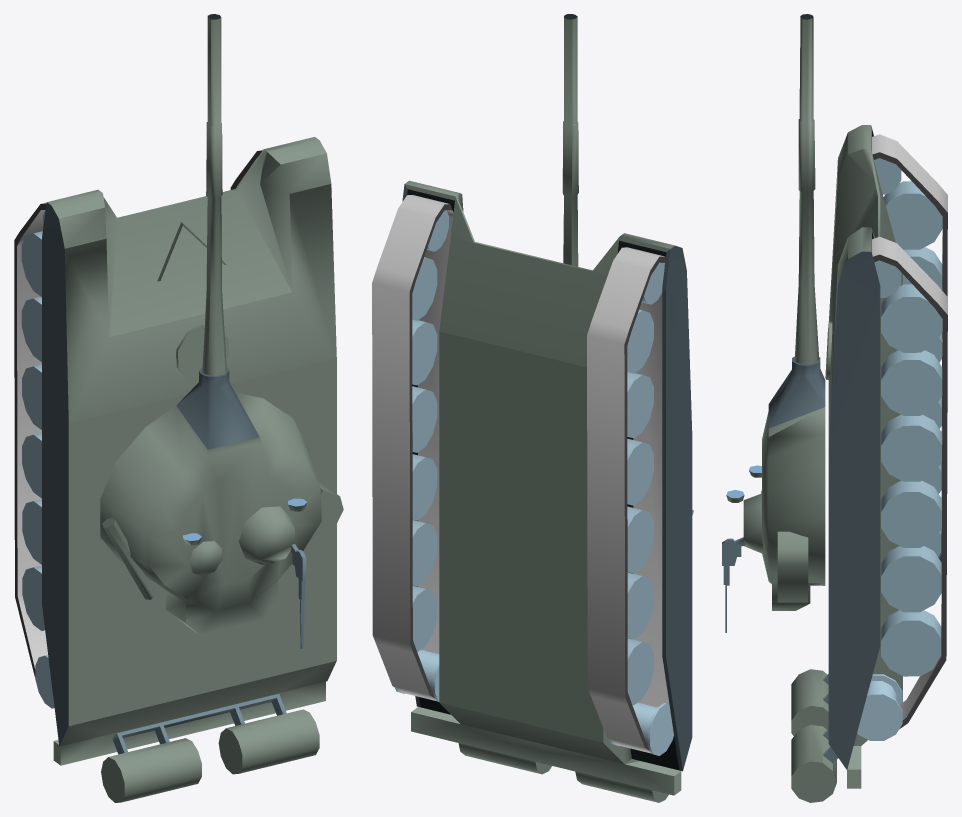
The picture shows the model from 3 angles, left to right: view 1: azimuth 30°, elevation 25°; view 2: azimuth 150°, elevation 25°; view 3: azimuth 270°, elevation 25°; orthographic projection. The views are drawn at different scales.
Visible parts, largest first — view 1: db_t72M_p15228_Geometry_0.001, db_t72M_d3_turr_p16122_Geometry_0.001, db_t72M_p15278_Geometry_0.001, db_t72M_d3_d4_barrel_p14166_Geometry_0.001, db_t72M_track_o2605_p15931_Geometry_0.001, db_t72M_p15244_Geometry_0.001, db_t72M_d3_boot_p14070_Geometry_0.001, db_t72M_wheels_o2604_p15395_Geometry_0.001, db_t72M_wheels_o2606_p16516_Geometry_0.001, db_t72M_d3_box1_p14089_Geometry_0.001, db_t72M_wheels_o2607_p17080_Geometry_0.001, db_t72M_d3_peri_p13964_Geometry_0.001 (+6 smaller); view 2: db_t72M_p15228_Geometry_0.001, db_t72M_track_o2605_p15931_Geometry_0.001, db_t72M_p15278_Geometry_0.001, db_t72M_wheels_o2604_p15395_Geometry_0.001, db_t72M_wheels_o2606_p16516_Geometry_0.001, db_t72M_p15244_Geometry_0.001, db_t72M_wheels_o2607_p17080_Geometry_0.001, db_t72M_d3_d4_barrel_p14166_Geometry_0.001, db_t72M_track_o2605_p15907_Geometry_0.001, db_t72M_p15968_Geometry_0.001, db_t72M_wheels_o2604_p15321_Geometry_0.001, db_t72M_wheels_o2607_p17006_Geometry_0.001 (+1 smaller); view 3: db_t72M_p15278_Geometry_0.001, db_t72M_wheels_o2604_p15395_Geometry_0.001, db_t72M_p15228_Geometry_0.001, db_t72M_wheels_o2606_p16516_Geometry_0.001, db_t72M_d3_turr_p16122_Geometry_0.001, db_t72M_wheels_o2607_p17080_Geometry_0.001, db_t72M_d3_d4_barrel_p14166_Geometry_0.001, db_t72M_track_o2605_p15907_Geometry_0.001, db_t72M_track_o2605_p15931_Geometry_0.001, db_t72M_d3_boot_p14070_Geometry_0.001, db_t72M_d3_box2_p14250_Geometry_0.001, db_t72M_wheels_o2606_p16442_Geometry_0.001 (+5 smaller).
Part boxes in pixels (<box>): db_t72M_p15228_Geometry_0.001: <box>47,137,336,802</box>; db_t72M_d3_turr_p16122_Geometry_0.001: <box>100,392,321,611</box>; db_t72M_p15278_Geometry_0.001: <box>42,202,68,745</box>; db_t72M_d3_d4_barrel_p14166_Geometry_0.001: <box>202,17,226,375</box>; db_t72M_track_o2605_p15931_Geometry_0.001: <box>17,149,262,668</box>; db_t72M_p15244_Geometry_0.001: <box>53,681,325,765</box>; db_t72M_d3_boot_p14070_Geometry_0.001: <box>176,367,259,449</box>; db_t72M_wheels_o2604_p15395_Geometry_0.001: <box>22,210,45,630</box>; db_t72M_wheels_o2606_p16516_Geometry_0.001: <box>21,210,45,626</box>; db_t72M_d3_box1_p14089_Geometry_0.001: <box>166,580,278,635</box>; db_t72M_wheels_o2607_p17080_Geometry_0.001: <box>21,214,44,624</box>; db_t72M_d3_peri_p13964_Geometry_0.001: <box>239,506,294,564</box>; db_t72M_p15228_Geometry_0.001: <box>404,180,674,802</box>; db_t72M_track_o2605_p15931_Geometry_0.001: <box>372,195,669,753</box>; db_t72M_p15278_Geometry_0.001: <box>402,184,692,771</box>; db_t72M_wheels_o2604_p15395_Geometry_0.001: <box>412,210,664,666</box>; db_t72M_wheels_o2606_p16516_Geometry_0.001: <box>412,212,663,705</box>; db_t72M_p15244_Geometry_0.001: <box>411,707,681,795</box>; db_t72M_wheels_o2607_p17080_Geometry_0.001: <box>412,226,664,682</box>; db_t72M_d3_d4_barrel_p14166_Geometry_0.001: <box>562,17,578,266</box>; db_t72M_track_o2605_p15907_Geometry_0.001: <box>409,204,665,750</box>; db_t72M_p15968_Geometry_0.001: <box>407,189,678,770</box>; db_t72M_wheels_o2604_p15321_Geometry_0.001: <box>399,649,673,753</box>; db_t72M_wheels_o2607_p17006_Geometry_0.001: <box>396,651,671,754</box>; db_t72M_p15278_Geometry_0.001: <box>828,126,880,769</box>; db_t72M_wheels_o2604_p15395_Geometry_0.001: <box>874,158,942,676</box>; db_t72M_p15228_Geometry_0.001: <box>791,125,902,802</box>; db_t72M_wheels_o2606_p16516_Geometry_0.001: <box>874,158,942,676</box>; db_t72M_d3_turr_p16122_Geometry_0.001: <box>762,407,825,585</box>; db_t72M_wheels_o2607_p17080_Geometry_0.001: <box>875,181,942,676</box>; db_t72M_d3_d4_barrel_p14166_Geometry_0.001: <box>794,17,819,364</box>; db_t72M_track_o2605_p15907_Geometry_0.001: <box>872,152,947,729</box>; db_t72M_track_o2605_p15931_Geometry_0.001: <box>872,134,947,719</box>; db_t72M_d3_boot_p14070_Geometry_0.001: <box>768,356,825,428</box>; db_t72M_d3_box2_p14250_Geometry_0.001: <box>777,531,808,602</box>; db_t72M_wheels_o2606_p16442_Geometry_0.001: <box>860,674,902,740</box>.
Bounding box in the file's own units: 3.6 × 9.8 × 2.71.
